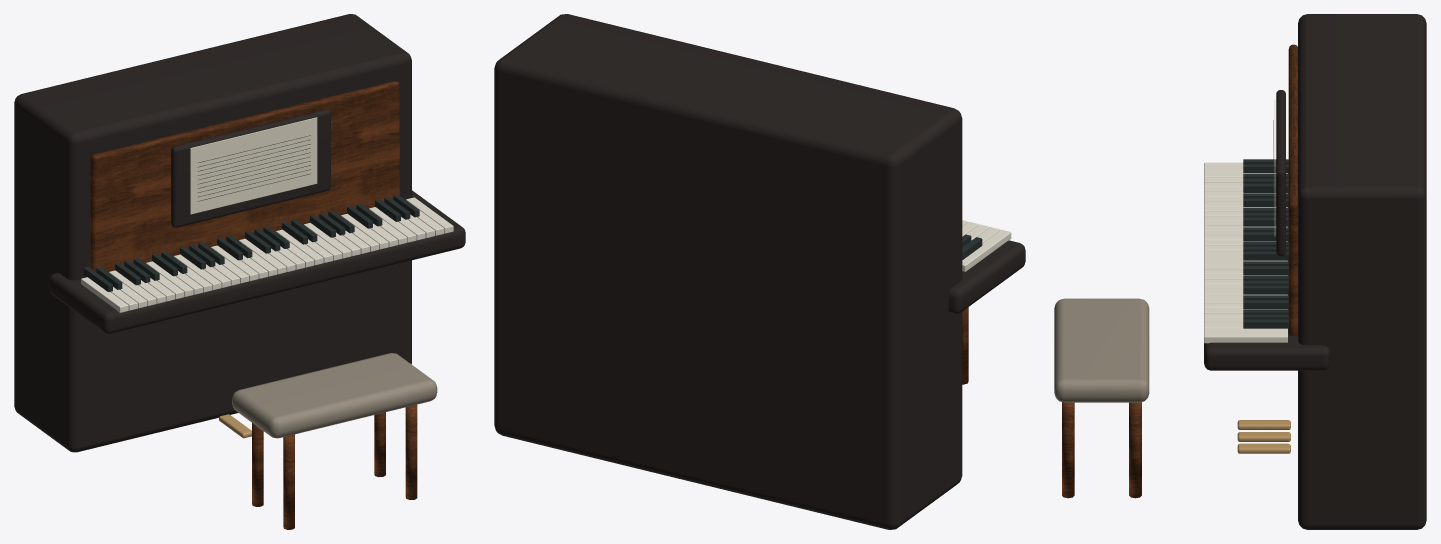
File: atelier_piano.glb
3 renders of one model, left to right at view 1: azimuth 30°, elevation 25°; view 2: azimuth 150°, elevation 25°; view 3: azimuth 270°, elevation 25°, orthographic. The views are drawn at different scales.
Visible parts, largest first — view 1: atelier_piano / Atelier / piano satin lacquer, atelier_piano / Atelier / smoked oak, atelier_piano / Atelier / ivory porcelain, atelier_piano / Atelier / linen upholstery, atelier_piano / Atelier / warm paper, atelier_piano / Atelier / charcoal powder coat; view 2: atelier_piano / Atelier / piano satin lacquer, atelier_piano / Atelier / ivory porcelain; view 3: atelier_piano / Atelier / piano satin lacquer, atelier_piano / Atelier / linen upholstery, atelier_piano / Atelier / ivory porcelain, atelier_piano / Atelier / charcoal powder coat, atelier_piano / Atelier / smoked oak, atelier_piano / Atelier / satin brass.
Boxes of the visible parts, x1,y1,x2,y2 form: atelier_piano / Atelier / piano satin lacquer: (14,14,465,452); atelier_piano / Atelier / smoked oak: (90,81,417,529); atelier_piano / Atelier / ivory porcelain: (81,197,453,312); atelier_piano / Atelier / linen upholstery: (232,353,437,438); atelier_piano / Atelier / warm paper: (190,117,317,214); atelier_piano / Atelier / charcoal powder coat: (83,135,419,291); atelier_piano / Atelier / piano satin lacquer: (494,14,1025,529); atelier_piano / Atelier / ivory porcelain: (962,220,1011,271); atelier_piano / Atelier / piano satin lacquer: (1204,14,1426,529); atelier_piano / Atelier / linen upholstery: (1054,298,1149,402); atelier_piano / Atelier / ivory porcelain: (1204,162,1287,343); atelier_piano / Atelier / charcoal powder coat: (1243,120,1288,330); atelier_piano / Atelier / smoked oak: (1062,44,1297,498); atelier_piano / Atelier / satin brass: (1237,420,1290,453).
Bounding box in the file's own units: 1.6 × 1.43 × 1.33.
Materials: 7 (2 with a texture image).
